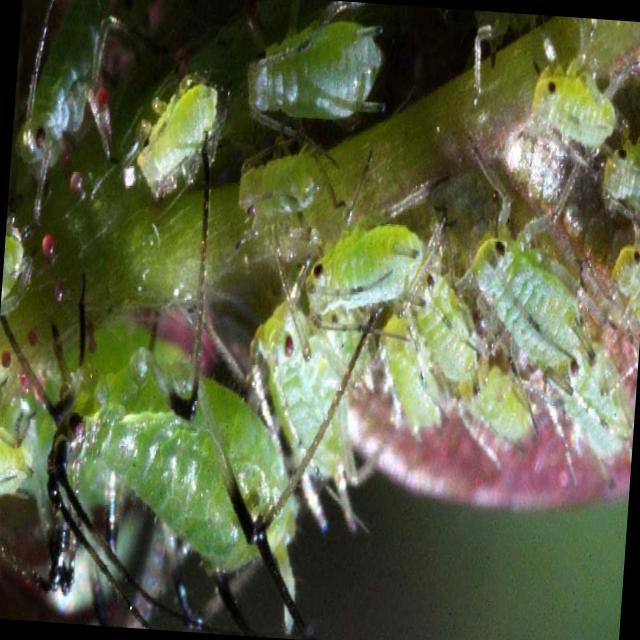Aphids: (12, 236, 322, 590), (444, 162, 604, 388), (246, 272, 370, 499), (290, 186, 435, 358), (106, 47, 237, 225), (8, 0, 117, 197), (233, 10, 389, 136), (512, 28, 626, 169), (399, 258, 486, 388), (228, 139, 347, 234), (444, 352, 544, 462)
